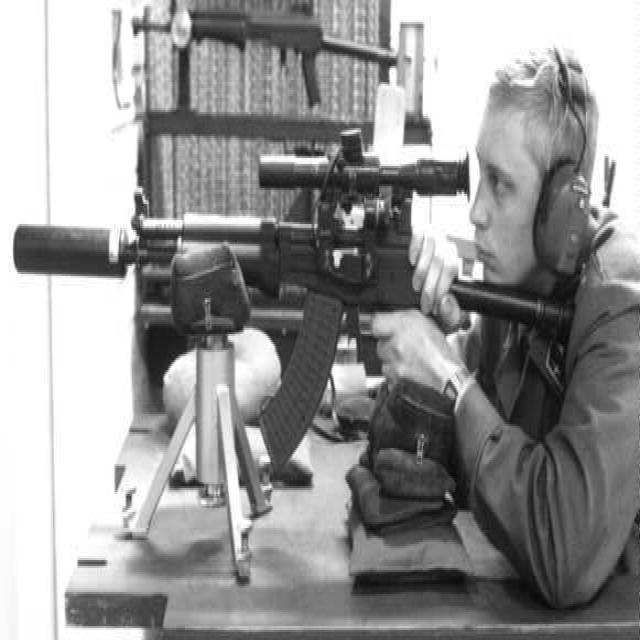RifleTel: (8, 143, 578, 490)
